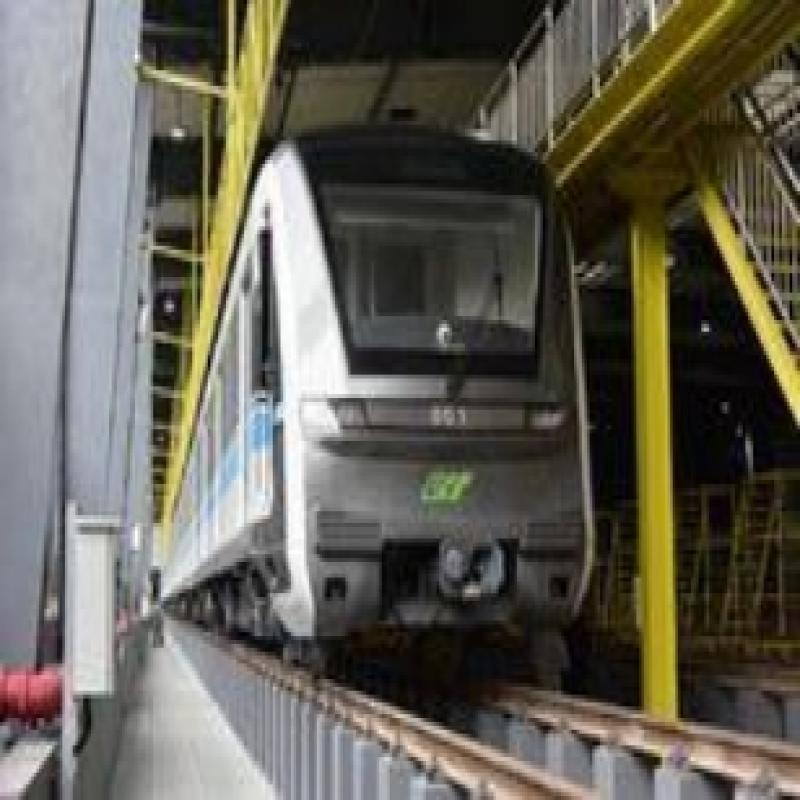train: (178, 146, 591, 665)
